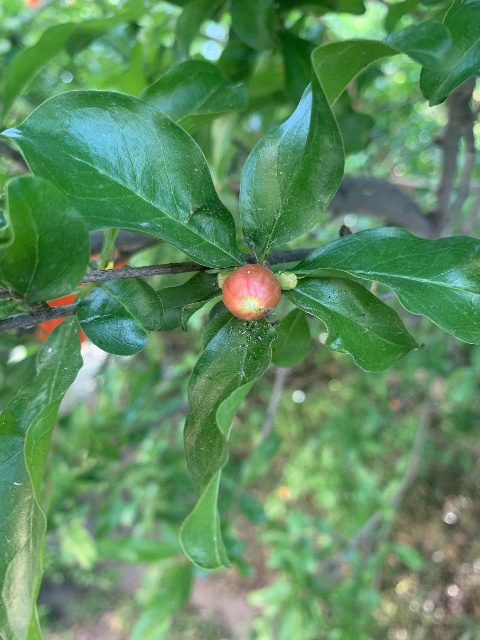bud: (221, 263, 280, 320)
